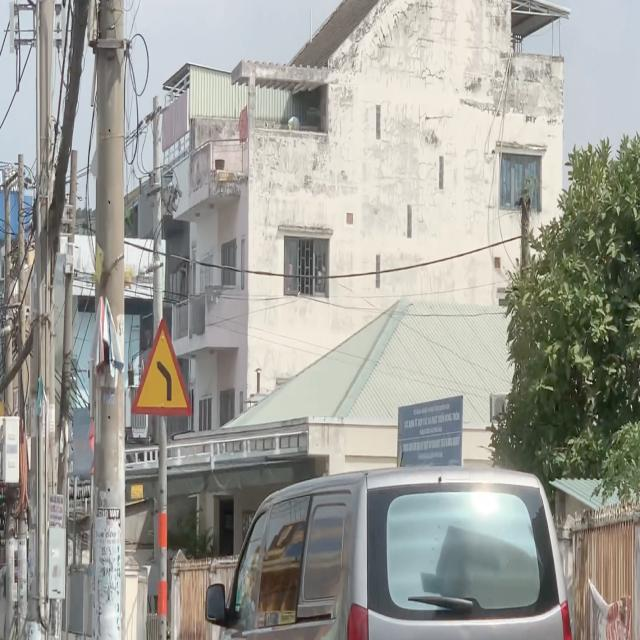Nguy hiem: (128, 314, 194, 420)
